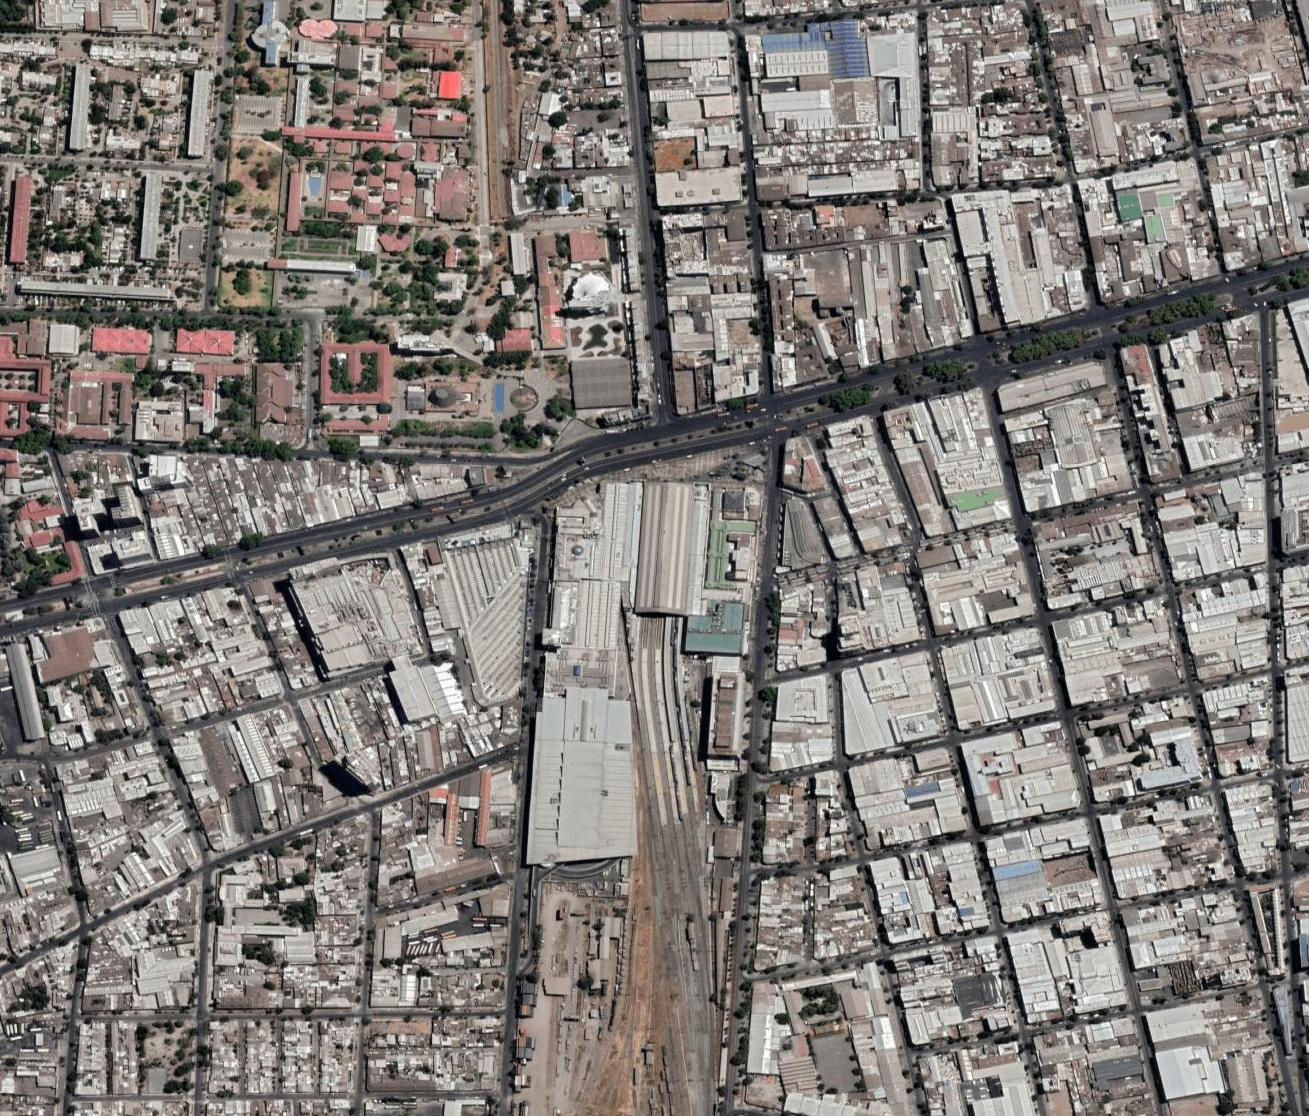train_station: (548, 473, 775, 817)
